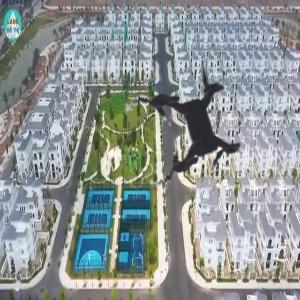drone: (88, 27, 295, 234)
